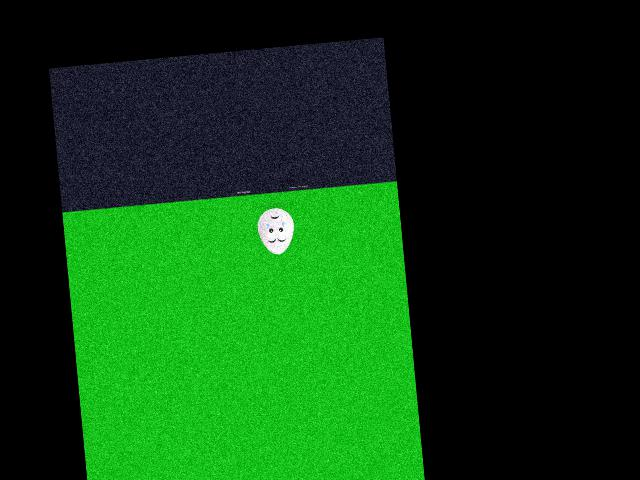egg: (256, 206, 296, 255)
